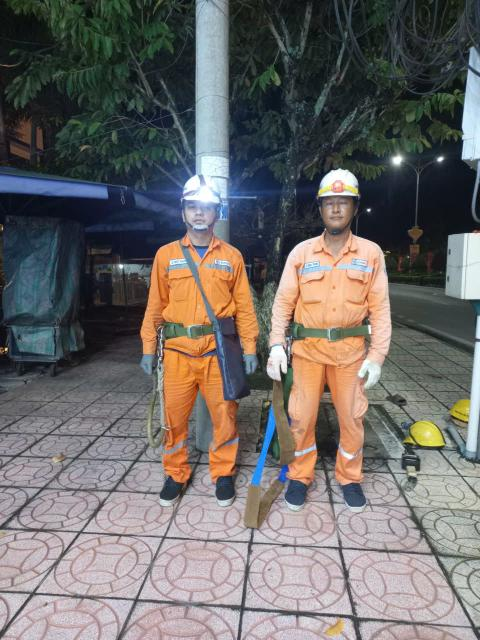gloves: (134, 341, 167, 385), (263, 342, 293, 380), (358, 356, 382, 390), (240, 354, 264, 377)
harness: (285, 316, 373, 348), (152, 318, 237, 342)
helmet: (302, 167, 368, 206), (178, 169, 229, 213), (398, 417, 447, 450), (447, 395, 475, 423)
shoes: (151, 467, 192, 513), (205, 472, 243, 512), (282, 463, 309, 514), (342, 468, 365, 518)
